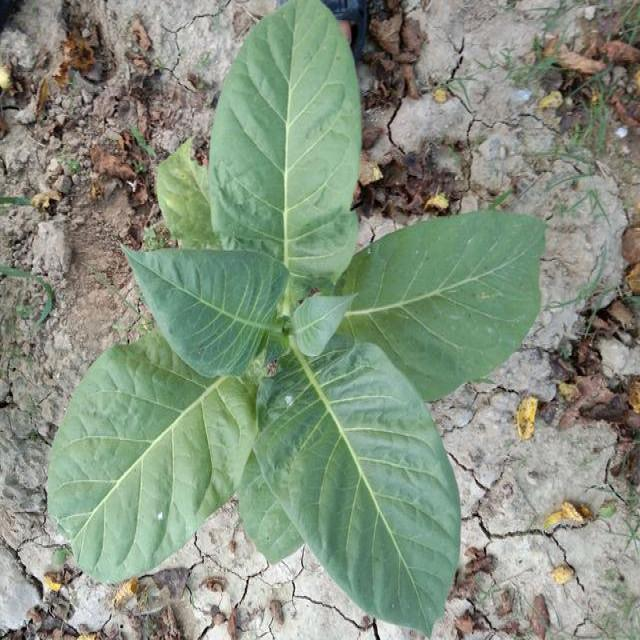crop: (34, 3, 539, 620)
